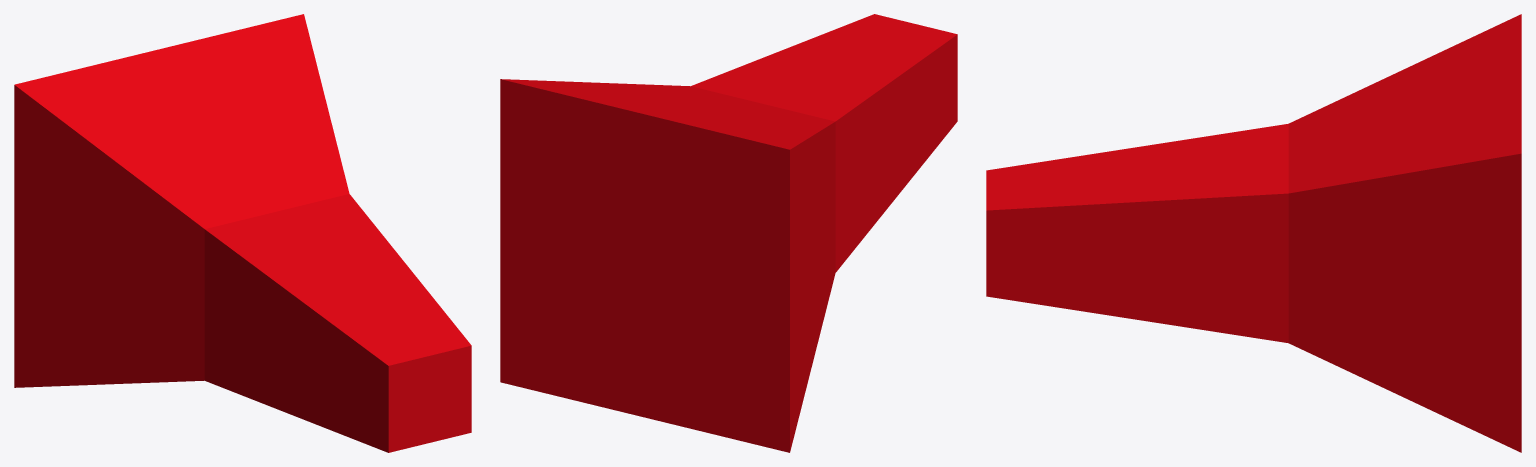
File: spawn.glb
The picture shows the model from 3 angles, left to right: view 1: azimuth 30°, elevation 25°; view 2: azimuth 150°, elevation 25°; view 3: azimuth 270°, elevation 25°; orthographic projection.
Parts seen in each view (by area): view 1: spawn; view 2: spawn; view 3: spawn.
Boxes of the visible parts, x1,y1,x2,y2 form: spawn: (14, 14, 471, 452); spawn: (500, 14, 957, 452); spawn: (986, 14, 1521, 452).
Size of the model in its own units: 1 by 1 by 1.62.
